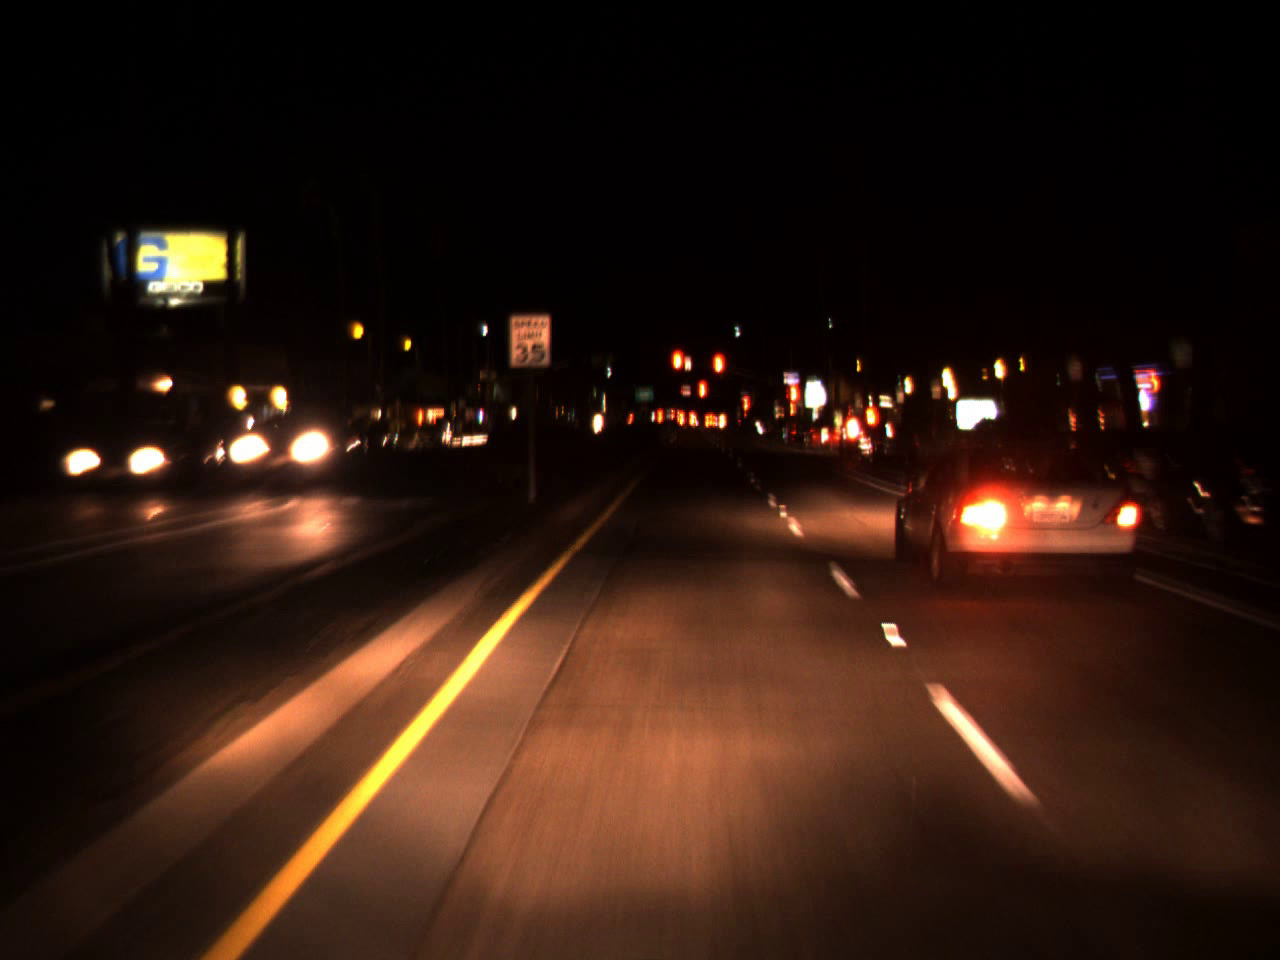stop: (668, 346, 689, 394), (710, 349, 726, 397), (740, 392, 752, 435), (697, 377, 709, 419), (789, 382, 796, 422)
